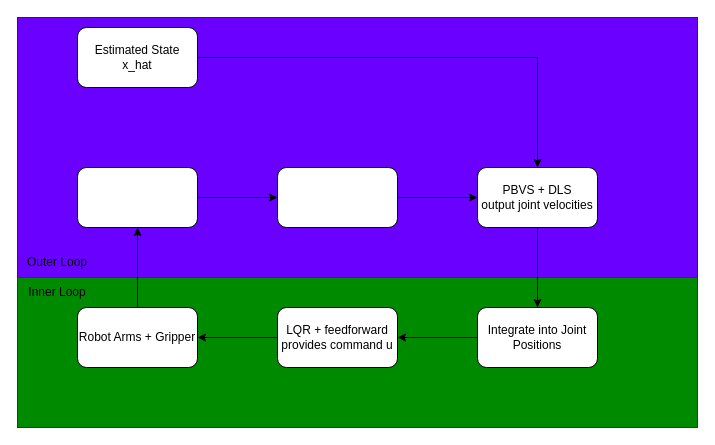
This 715x445 diagram has some shape labels left out. The centre of each missing label's shape, as x and y in pixels:
"Camera Image + Noise" belongs at (137,197).
"Marker Pose camera to marker" belongs at (337,197).
